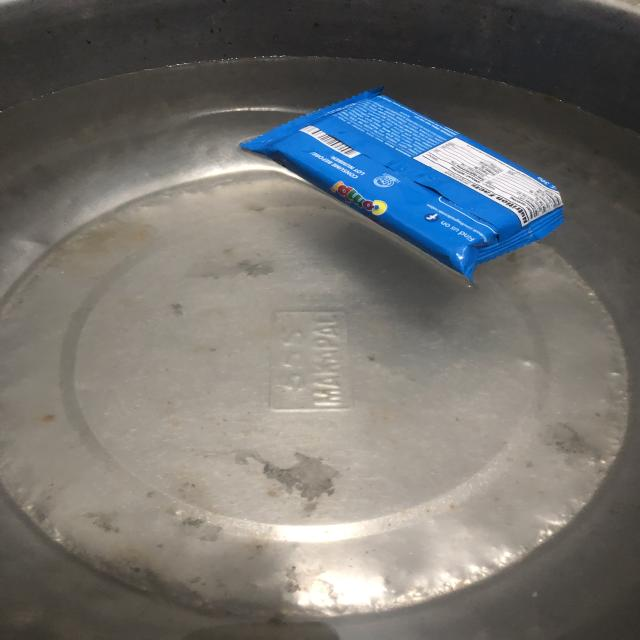Plastic Wrapper: (231, 94, 585, 295)
